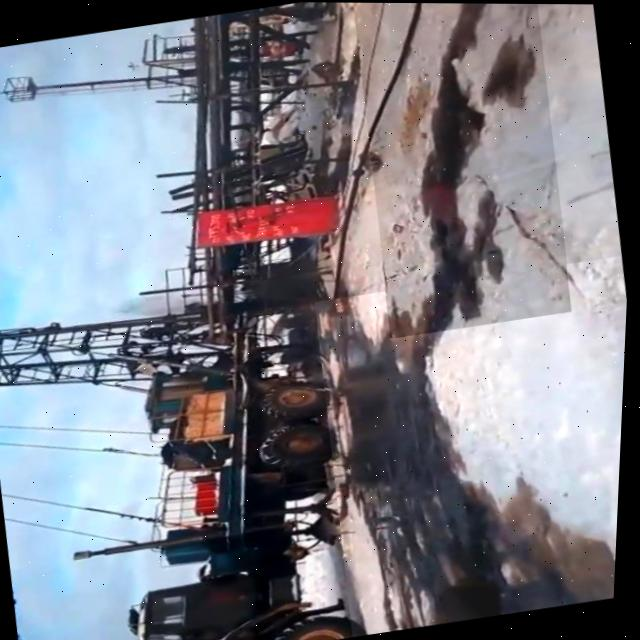spillage: (318, 255, 629, 635), (354, 2, 574, 337)
